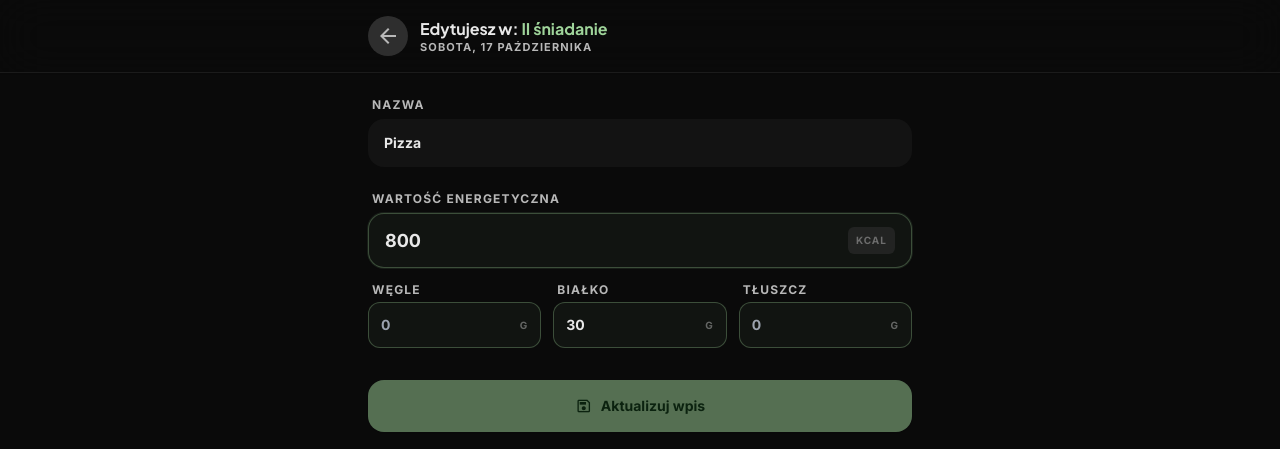
Test case: AddFood quick entry editing › keeps the update button disabled until something changes
Expected: the field showing "Pizza" is shown, [368,119,912,167]
Expected: the button "Aktualizuj wpis" is disabled, [368,380,912,432]
Replace the text in the number field named "Białko" with "31". click: (640, 325)
box: [554,303,726,347]
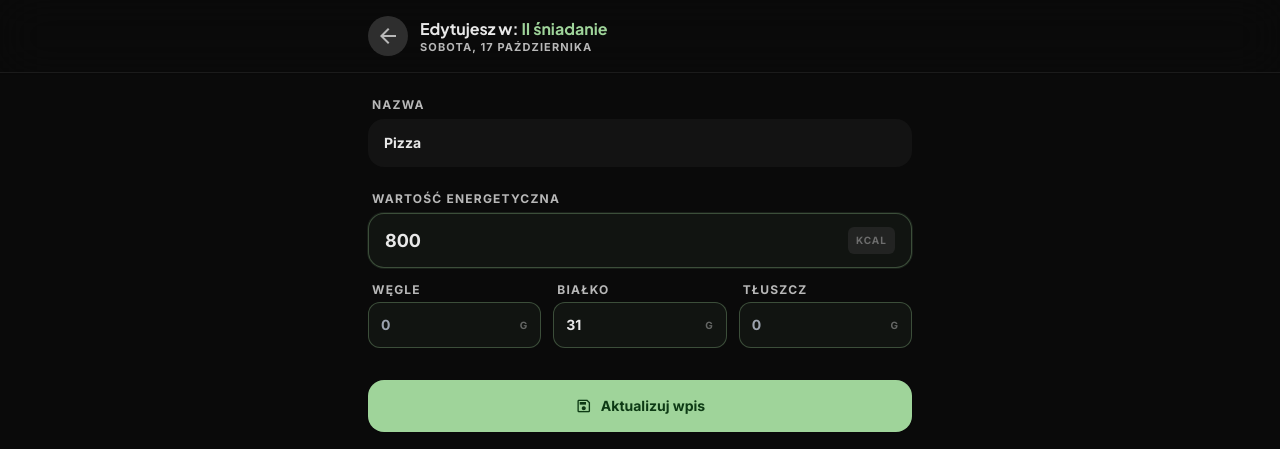
Expected: the button "Aktualizuj wpis" is enabled, [368,380,912,432]
Replace the text in the number field named "Białko" with "30". click: (640, 325)
box: [554,303,726,347]
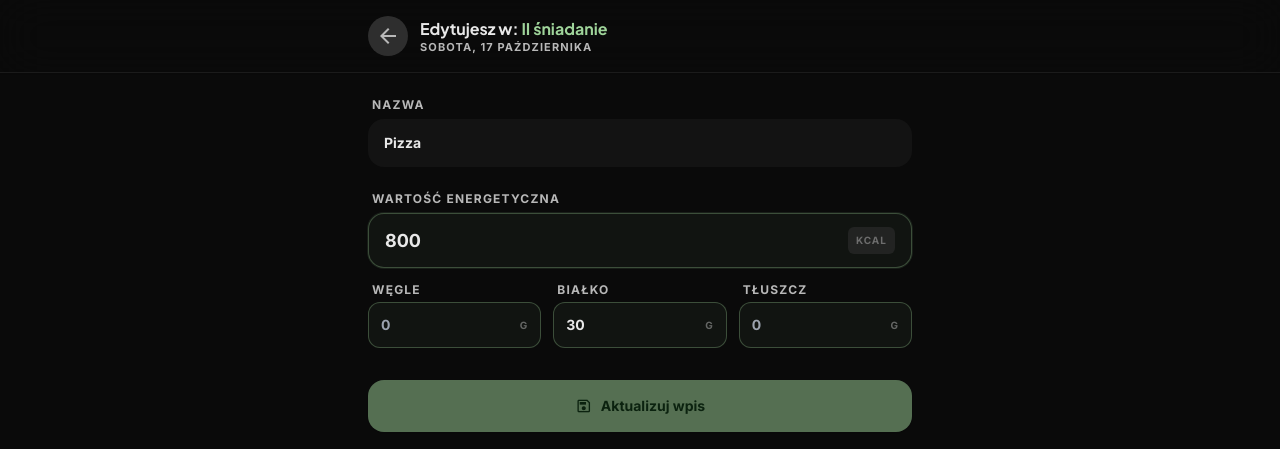
Expected: the button "Aktualizuj wpis" is disabled, [368,380,912,432]
